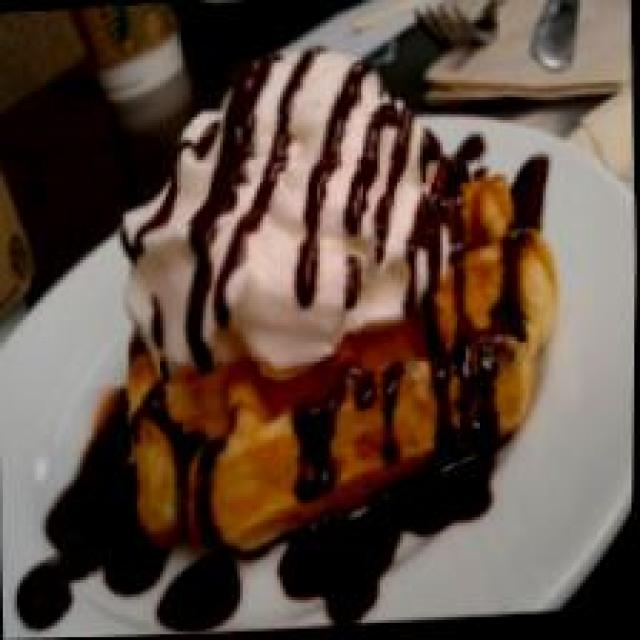Waffles: (110, 128, 573, 552)
